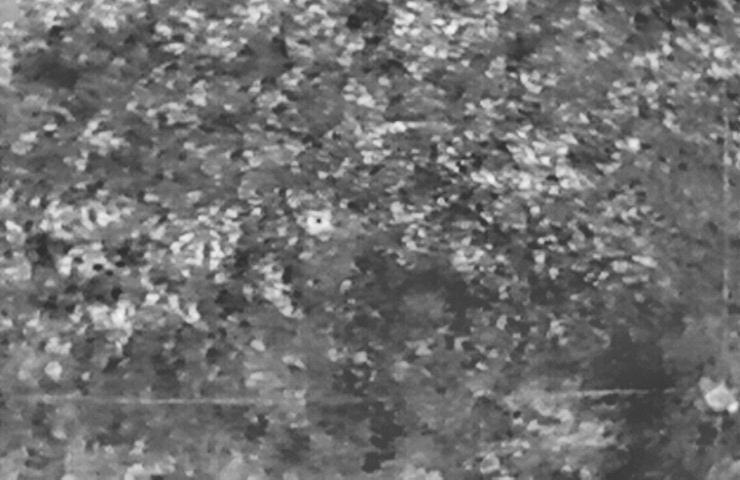landmines: (304, 207, 336, 238)
